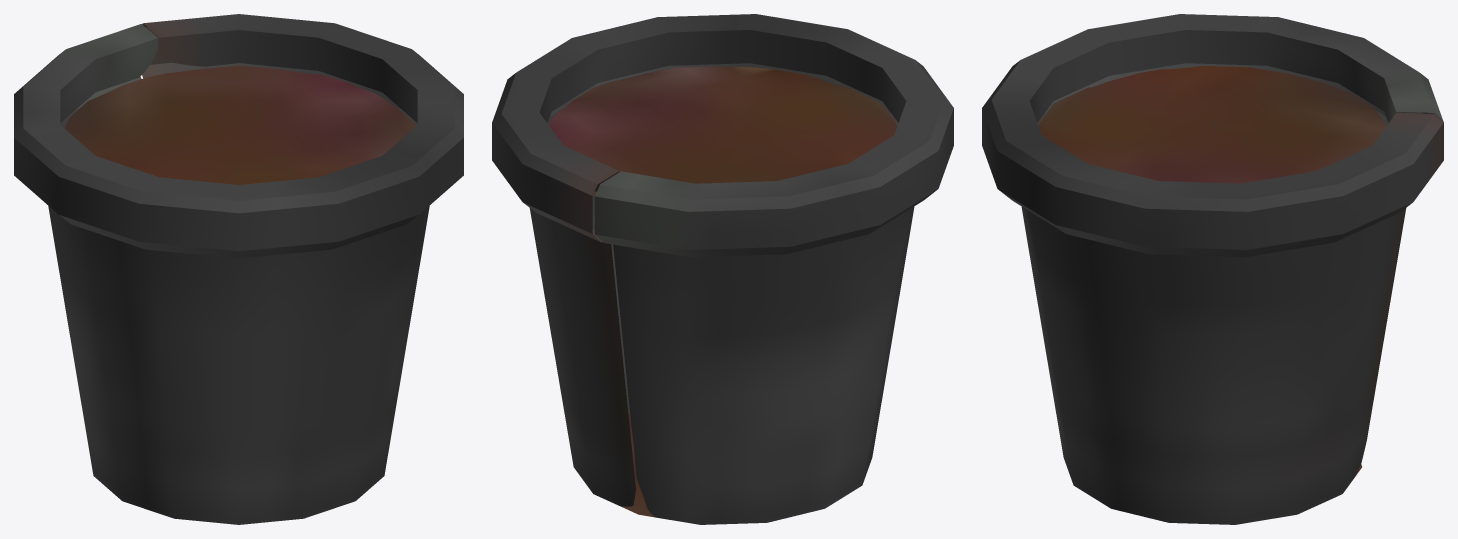
The model's file is bucket--1.gltf.
The picture shows the model from 3 angles, left to right: view 1: azimuth 30°, elevation 25°; view 2: azimuth 150°, elevation 25°; view 3: azimuth 270°, elevation 25°; orthographic projection.
Visible parts, largest first — view 1: Big_round; view 2: Big_round; view 3: Big_round.
Part boxes in pixels (x1,y1,x2,y2): Big_round: (14,14,463,524); Big_round: (492,14,953,524); Big_round: (982,14,1443,524).
Size of the model in its own units: 0.4863 by 0.4168 by 0.4905.
1 material, 1 textured.
